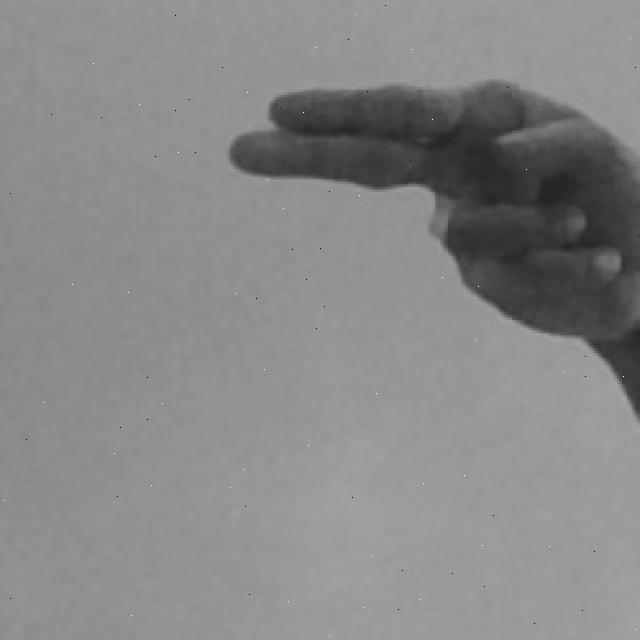H: (222, 75, 640, 433), (225, 74, 640, 412)
